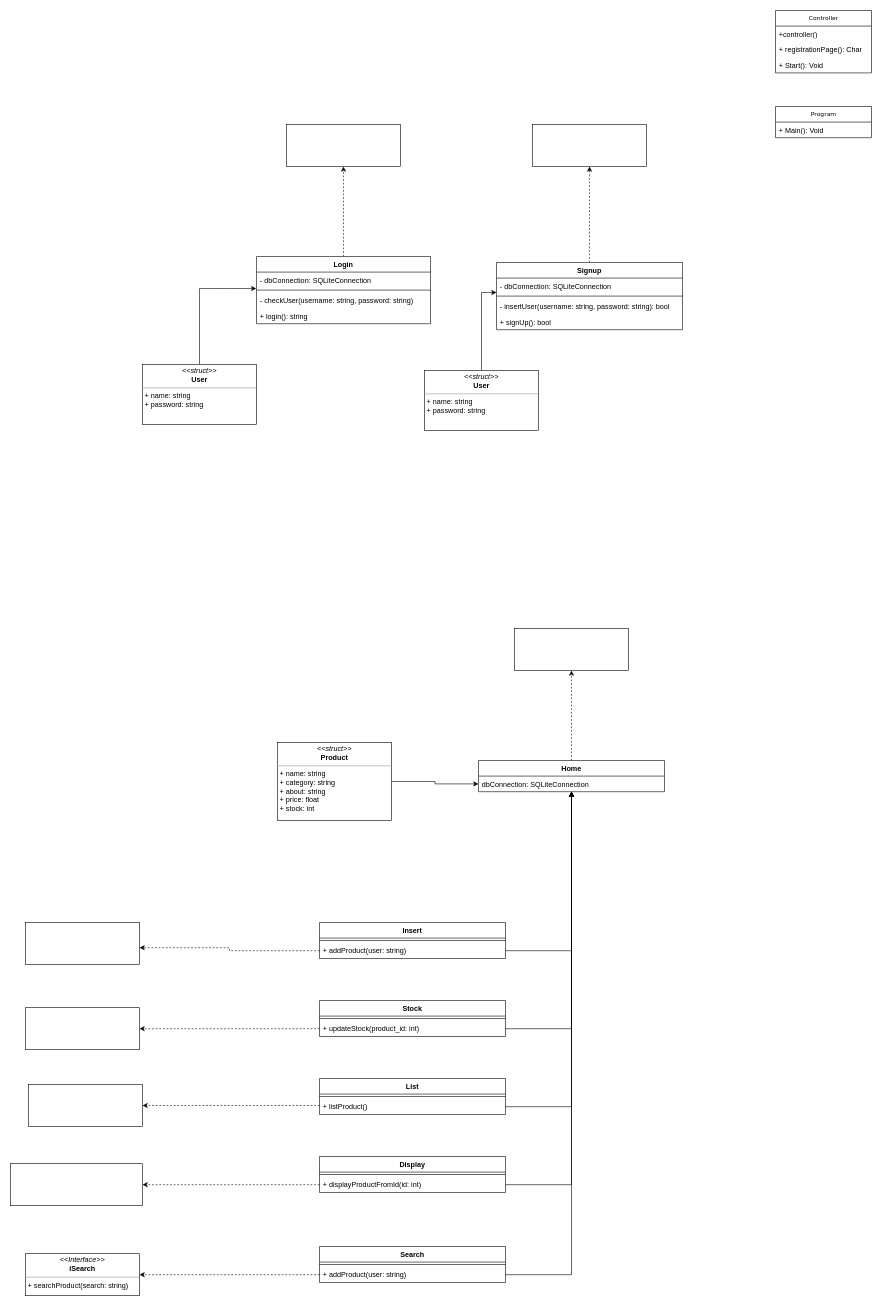
The diagram is 882 pixels wide and 1306 high, and some of its shapes have lost their labels. Each missing label, with the centre of its shape:
<<Interface>> iDisplay + displayProductFromId(id: int): point 76,1184
<<Interface>> iHome: point 571,649
<<Interface>> iInsert + addProduct(user: string): point 82,943
<<Interface>> iList + listProduct(): point 85,1105
<<Interface>> iLogin + Login(): string: point 343,145
<<Interface>> iSignup + signUp(): bool: point 589,145
<<Interface>> iStock + updateStock(product_id: int): point 82,1028
